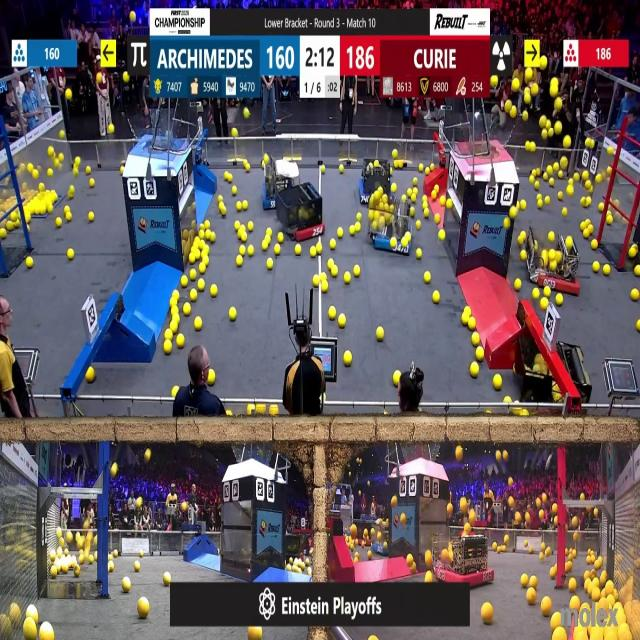ball_airborne: (551, 81, 559, 99), (555, 120, 563, 134), (555, 98, 563, 111), (110, 463, 118, 476), (524, 93, 532, 105), (526, 68, 534, 80), (539, 58, 547, 70), (560, 159, 568, 170), (586, 138, 594, 149), (564, 136, 571, 148), (539, 116, 546, 128), (531, 86, 538, 98), (514, 78, 521, 90), (456, 447, 462, 461), (511, 106, 518, 118), (491, 75, 498, 87), (460, 498, 467, 510), (145, 449, 151, 462), (502, 448, 508, 461), (566, 185, 573, 196), (516, 513, 522, 525), (468, 512, 474, 524), (503, 101, 510, 111), (544, 129, 551, 139), (67, 532, 74, 542), (122, 72, 128, 83), (66, 90, 72, 101), (47, 146, 53, 157), (496, 451, 502, 462), (572, 518, 578, 529), (607, 146, 614, 155), (523, 111, 529, 121), (97, 73, 103, 83), (507, 496, 513, 506), (244, 108, 250, 118), (448, 502, 453, 514), (131, 10, 137, 20), (184, 502, 190, 512), (530, 142, 536, 152), (464, 524, 470, 534), (566, 238, 572, 248), (137, 497, 142, 508), (507, 478, 513, 487), (233, 129, 239, 138), (596, 174, 602, 183), (392, 496, 397, 506), (538, 511, 544, 519), (524, 514, 530, 522), (61, 131, 66, 140), (553, 503, 558, 512), (559, 171, 564, 180), (265, 153, 270, 162), (33, 170, 38, 179), (60, 152, 65, 160), (579, 494, 584, 501), (554, 517, 558, 525), (536, 498, 540, 506), (48, 169, 52, 177)
ball_ground: (482, 603, 494, 624), (26, 622, 38, 640), (40, 624, 53, 640), (139, 598, 149, 618), (540, 598, 550, 615), (552, 614, 562, 630), (250, 627, 262, 640), (526, 589, 536, 604), (553, 630, 566, 640), (469, 362, 478, 376), (208, 371, 216, 386), (88, 366, 96, 381), (494, 376, 502, 391), (474, 348, 482, 362), (122, 579, 130, 593), (568, 580, 576, 594), (425, 552, 432, 568), (345, 351, 352, 366), (470, 334, 478, 347), (377, 327, 385, 340), (176, 336, 184, 349), (230, 308, 238, 321), (270, 407, 279, 418), (256, 405, 265, 416), (393, 372, 400, 386), (631, 288, 639, 300), (339, 315, 347, 327), (165, 342, 173, 354), (570, 597, 578, 609), (556, 293, 564, 305), (425, 570, 433, 582), (198, 279, 206, 291), (630, 246, 638, 258), (180, 276, 188, 287), (193, 318, 200, 330), (27, 256, 34, 268), (432, 290, 439, 302), (165, 572, 172, 584), (183, 304, 190, 316), (189, 289, 196, 301), (522, 574, 529, 586), (328, 308, 335, 320), (592, 589, 599, 601), (240, 232, 248, 242), (165, 329, 173, 339), (348, 224, 356, 234), (211, 285, 218, 296), (68, 249, 75, 260), (603, 266, 610, 277), (354, 267, 361, 278), (268, 260, 275, 271), (313, 276, 320, 287), (237, 255, 244, 266), (532, 288, 539, 299), (171, 321, 178, 332), (540, 300, 547, 311), (605, 213, 612, 224), (565, 562, 572, 573), (516, 279, 522, 291), (345, 273, 351, 285), (634, 266, 640, 278), (468, 318, 474, 330), (321, 281, 327, 293), (202, 247, 210, 256), (200, 265, 207, 275), (584, 230, 591, 240), (188, 270, 195, 280), (511, 208, 518, 218), (401, 238, 408, 248), (275, 244, 281, 255), (594, 263, 600, 274), (424, 273, 430, 284), (0, 229, 6, 240), (408, 555, 414, 566), (521, 250, 527, 261), (530, 575, 536, 586), (327, 258, 333, 269), (551, 567, 557, 578), (172, 386, 178, 397), (50, 566, 56, 577), (316, 244, 322, 255), (202, 256, 210, 264), (74, 158, 81, 167), (331, 268, 337, 278), (294, 245, 300, 255), (330, 240, 336, 250), (417, 248, 422, 260), (248, 246, 254, 256), (240, 246, 246, 256), (592, 240, 598, 250), (542, 287, 548, 297), (440, 232, 446, 242), (278, 234, 284, 244), (243, 201, 249, 211), (57, 218, 63, 228), (338, 229, 344, 239), (210, 233, 216, 243), (172, 307, 178, 317), (134, 562, 140, 572), (264, 242, 270, 252), (310, 247, 316, 257), (220, 206, 226, 216), (108, 562, 114, 572), (74, 566, 80, 576), (547, 232, 553, 242), (520, 232, 526, 242), (188, 254, 195, 262), (172, 290, 179, 298), (545, 176, 552, 184), (464, 307, 469, 318), (237, 203, 243, 212), (434, 214, 440, 223), (441, 198, 447, 207), (225, 173, 231, 182), (68, 188, 74, 197), (579, 198, 585, 207), (26, 214, 32, 223), (588, 224, 594, 233), (200, 239, 206, 248), (90, 212, 95, 222), (67, 212, 72, 222), (521, 201, 526, 211), (562, 208, 568, 216), (340, 166, 346, 174), (235, 221, 241, 229), (320, 273, 326, 281), (534, 182, 540, 190), (65, 206, 71, 214), (200, 232, 206, 240), (7, 222, 13, 230), (47, 205, 53, 213), (579, 222, 585, 230), (500, 546, 506, 554), (206, 220, 212, 228), (391, 183, 396, 192), (411, 208, 416, 217), (587, 198, 592, 207), (431, 190, 436, 199), (447, 200, 452, 209), (539, 552, 544, 561), (392, 149, 397, 158), (90, 556, 95, 565), (636, 320, 640, 331), (412, 194, 418, 201), (413, 178, 419, 185), (424, 168, 430, 175), (412, 187, 418, 194), (248, 222, 253, 230), (537, 201, 542, 209), (91, 179, 96, 187), (233, 186, 238, 194), (424, 210, 429, 218), (599, 204, 604, 212), (356, 213, 361, 221), (73, 168, 78, 176), (243, 163, 248, 171), (559, 191, 564, 199), (503, 535, 508, 543), (247, 410, 252, 418), (393, 162, 398, 170), (201, 221, 206, 229), (356, 222, 360, 231), (544, 197, 548, 206), (225, 412, 231, 418), (536, 192, 542, 198), (268, 227, 273, 234), (85, 166, 90, 173), (320, 167, 325, 174), (529, 176, 534, 183), (419, 166, 424, 173), (550, 181, 555, 188), (423, 193, 428, 200), (504, 396, 509, 403), (430, 165, 435, 172), (417, 220, 421, 228), (367, 552, 371, 560), (113, 552, 118, 558), (423, 203, 428, 209), (122, 166, 127, 172), (108, 555, 113, 561), (218, 193, 222, 200), (119, 168, 123, 175), (434, 184, 438, 191), (402, 193, 406, 200), (532, 170, 536, 177), (140, 552, 144, 558), (528, 546, 532, 552), (354, 558, 358, 564), (486, 412, 492, 416)
goal: (461, 118, 517, 158), (129, 116, 186, 152)
robot_blue: (368, 193, 414, 253), (357, 159, 394, 206)
robot_red: (516, 332, 586, 413), (441, 526, 492, 586), (540, 240, 580, 296), (282, 188, 325, 240)
